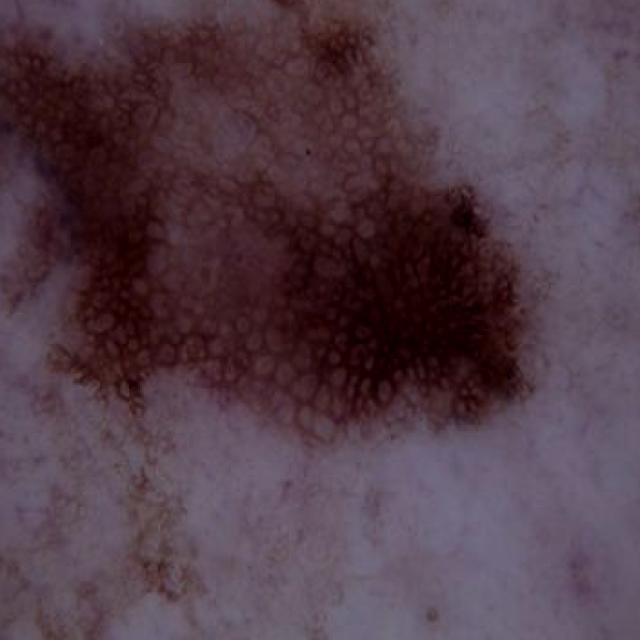BKL: (0, 0, 578, 592)
